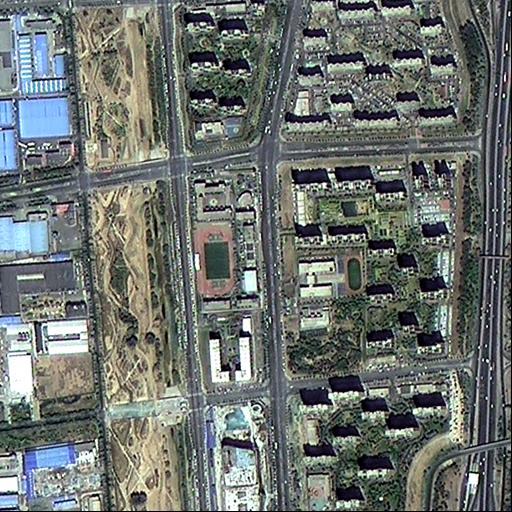school: (296, 246, 365, 302)
